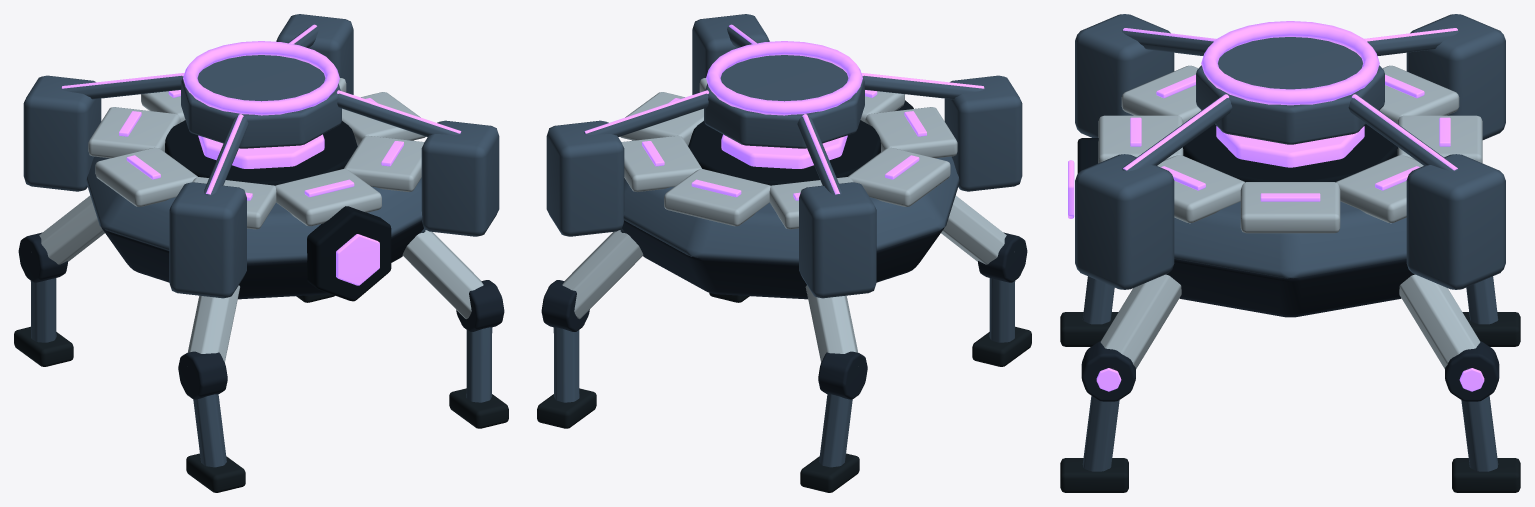
The model's file is t4_aegis.fbx.
The picture shows the model from 3 angles, left to right: view 1: azimuth 30°, elevation 25°; view 2: azimuth 150°, elevation 25°; view 3: azimuth 270°, elevation 25°; orthographic projection. The views are drawn at different scales.
Visible parts, largest first — view 1: Body_Geometry, Knee.003_Geometry, Knee_Geometry, Leg_00_Geometry, Knee.002_Geometry, Leg_02_Geometry, Leg_03_Geometry, Foot_Geometry, Foot.003_Geometry, Foot.002_Geometry; view 2: Body_Geometry, Knee.002_Geometry, Knee.001_Geometry, Leg_01_Geometry, Knee.003_Geometry, Leg_03_Geometry, Leg_02_Geometry, Foot.001_Geometry, Foot.002_Geometry, Foot.003_Geometry; view 3: Body_Geometry, Knee_Geometry, Knee.001_Geometry, Leg_00_Geometry, Leg_01_Geometry, Foot_Geometry, Foot.001_Geometry, Foot.002_Geometry, Foot.003_Geometry, Knee.002_Geometry, Knee.003_Geometry.
Boxes of the visible parts, x1,y1,x2,y2 form: Body_Geometry: (23, 14, 499, 301); Knee.003_Geometry: (178, 351, 227, 467); Knee_Geometry: (456, 280, 504, 402); Leg_00_Geometry: (402, 229, 483, 318); Knee.002_Geometry: (18, 232, 67, 342); Leg_02_Geometry: (39, 195, 104, 264); Leg_03_Geometry: (187, 285, 240, 362); Foot_Geometry: (449, 388, 508, 428); Foot.003_Geometry: (186, 453, 245, 492); Foot.002_Geometry: (14, 326, 73, 366); Body_Geometry: (546, 14, 1022, 299); Knee.002_Geometry: (818, 351, 867, 467); Knee.001_Geometry: (541, 280, 589, 402); Leg_01_Geometry: (562, 229, 643, 318); Knee.003_Geometry: (978, 232, 1027, 342); Leg_03_Geometry: (941, 195, 1006, 264); Leg_02_Geometry: (805, 285, 858, 362); Foot.001_Geometry: (537, 388, 596, 428); Foot.002_Geometry: (800, 453, 859, 492); Foot.003_Geometry: (972, 326, 1031, 366); Body_Geometry: (1068, 14, 1505, 317); Knee_Geometry: (1081, 341, 1135, 471); Knee.001_Geometry: (1445, 341, 1499, 471); Leg_00_Geometry: (1100, 274, 1181, 368); Leg_01_Geometry: (1399, 274, 1480, 368); Foot_Geometry: (1060, 458, 1128, 492); Foot.001_Geometry: (1452, 458, 1520, 492); Foot.002_Geometry: (1462, 312, 1520, 346); Foot.003_Geometry: (1060, 312, 1118, 346); Knee.002_Geometry: (1466, 276, 1498, 324); Knee.003_Geometry: (1082, 276, 1114, 324).
Size of the model in its own units: 2.07 by 1.89 by 2.21.
